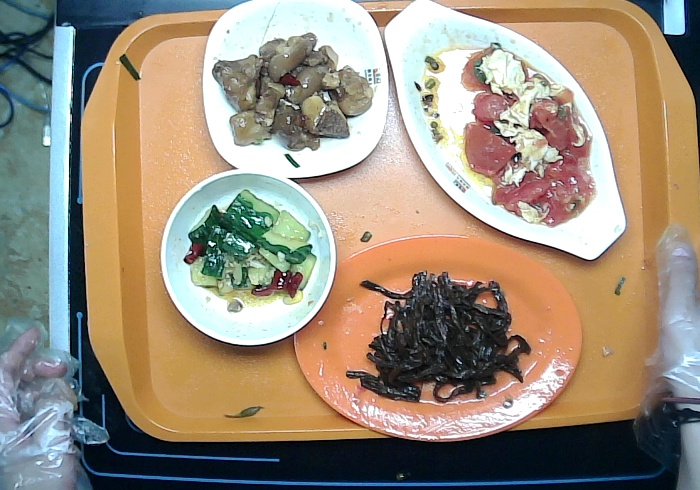NLDX-Bai_Se_Xiao_Fang_Die: (202, 1, 396, 180)
NLDX-Fan_Wan: (155, 168, 340, 348)
NLDX-Ju_Se_Pan: (288, 229, 591, 449)
NLDX-Yu_Pan: (378, 3, 635, 267)
